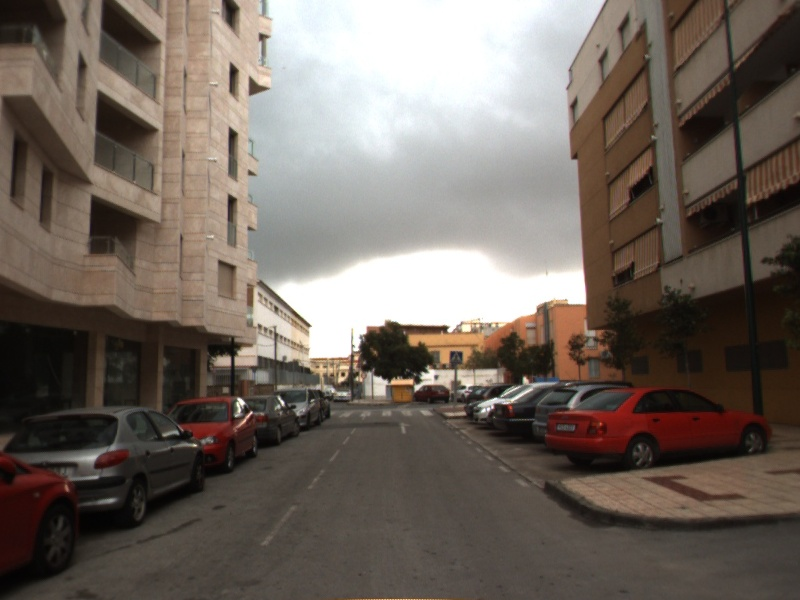STRAIGHT: (395, 420, 414, 436)
